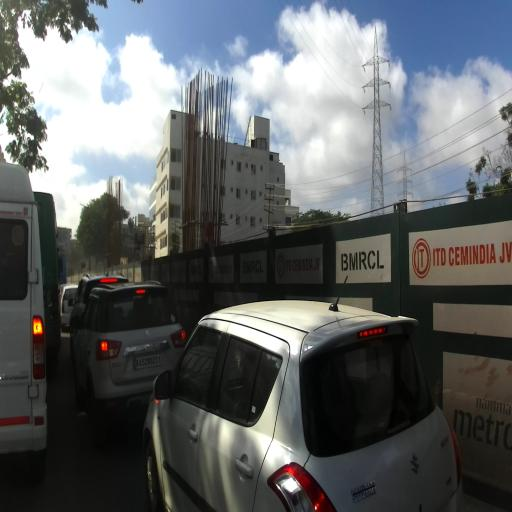street_light_0: (80, 202, 92, 214), (69, 240, 80, 244)
